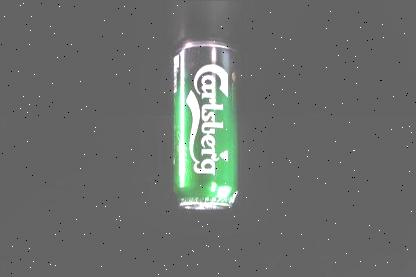Can: (171, 38, 239, 212)
